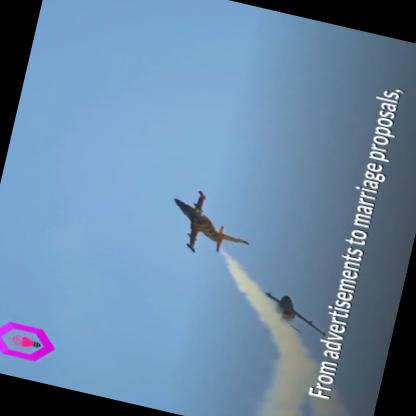plane: (158, 173, 267, 272)
